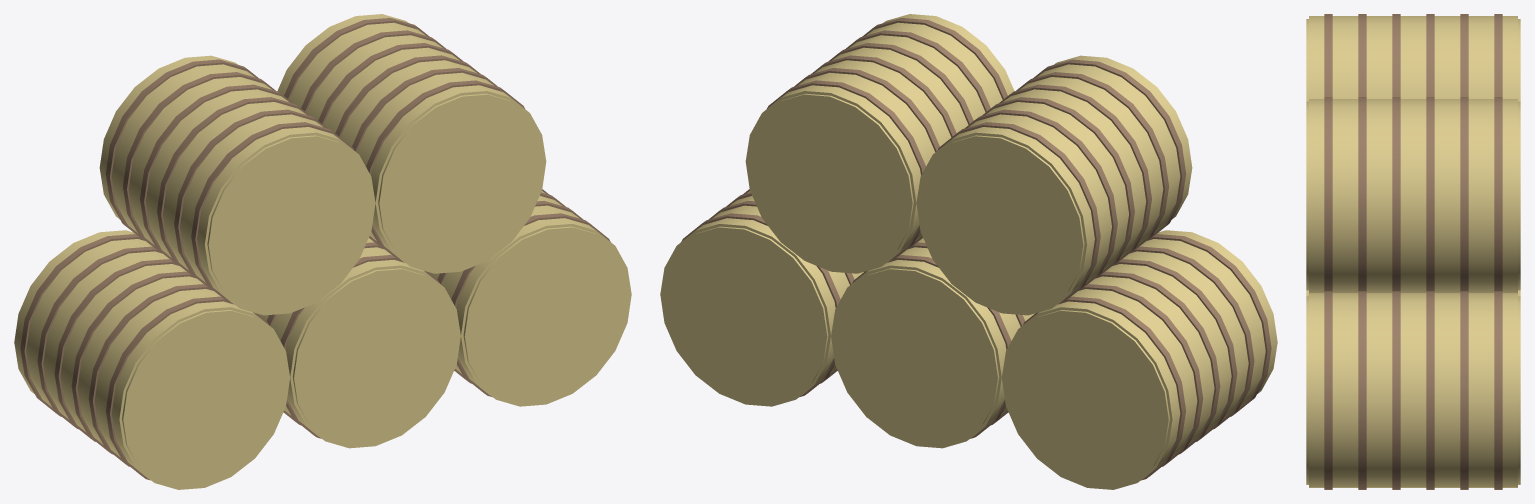
Rendered from th38_heuballen.glb.
The picture shows the model from 3 angles, left to right: view 1: azimuth 30°, elevation 25°; view 2: azimuth 150°, elevation 25°; view 3: azimuth 270°, elevation 25°; orthographic projection.
Parts seen in each view (by area): view 1: Cylinder.028, Cylinder.019, Cylinder.001, Cylinder.037, Cylinder.010, Cylinder.027, Cylinder, Cylinder.036, Cylinder.018, Cylinder.009, Cylinder.030, Cylinder.033 (+18 smaller); view 2: Cylinder.029, Cylinder.020, Cylinder.002, Cylinder.038, Cylinder.011, Cylinder.027, Cylinder, Cylinder.036, Cylinder.018, Cylinder.009, Cylinder.035, Cylinder.032 (+18 smaller); view 3: Cylinder.018, Cylinder.036, Cylinder.027, Cylinder.021, Cylinder.022, Cylinder.023, Cylinder.024, Cylinder.025, Cylinder.026, Cylinder.039, Cylinder.040, Cylinder.041 (+15 smaller).
Boxes of the visible parts, box(x1,y1,x2,y2) form: Cylinder.028: box(207, 135, 374, 313); Cylinder.019: box(463, 226, 630, 404); Cylinder.001: box(122, 310, 288, 487); Cylinder.037: box(378, 93, 544, 271); Cylinder.010: box(292, 268, 459, 446); Cylinder.027: box(99, 55, 375, 315); Cylinder: box(14, 230, 289, 489); Cylinder.036: box(277, 14, 546, 273); Cylinder.018: box(428, 191, 631, 406); Cylinder.009: box(257, 238, 460, 448); Cylinder.030: box(191, 122, 354, 302); Cylinder.033: box(140, 84, 292, 265); Cylinder.029: box(917, 135, 1084, 313); Cylinder.020: box(661, 226, 828, 404); Cylinder.002: box(1003, 310, 1169, 487); Cylinder.038: box(747, 93, 913, 271); Cylinder.011: box(832, 268, 999, 446); Cylinder.027: box(916, 55, 1192, 315); Cylinder: box(1002, 230, 1277, 489); Cylinder.036: box(745, 14, 1014, 273); Cylinder.018: box(660, 191, 863, 406); Cylinder.009: box(831, 238, 1034, 448); Cylinder.035: box(937, 122, 1100, 303); Cylinder.032: box(999, 84, 1151, 265); Cylinder.018: box(1309, 293, 1517, 487); Cylinder.036: box(1309, 99, 1517, 293); Cylinder.027: box(1309, 16, 1517, 98); Cylinder.021: box(1324, 291, 1332, 489); Cylinder.022: box(1358, 291, 1366, 489); Cylinder.023: box(1392, 291, 1400, 489); Cylinder.024: box(1426, 291, 1434, 489); Cylinder.025: box(1460, 291, 1468, 489); Cylinder.026: box(1494, 291, 1502, 489); Cylinder.039: box(1324, 97, 1332, 291); Cylinder.040: box(1358, 97, 1366, 291); Cylinder.041: box(1392, 97, 1400, 291).
Bounding box in the file's own units: 3.62 × 2.26 × 1.31.
